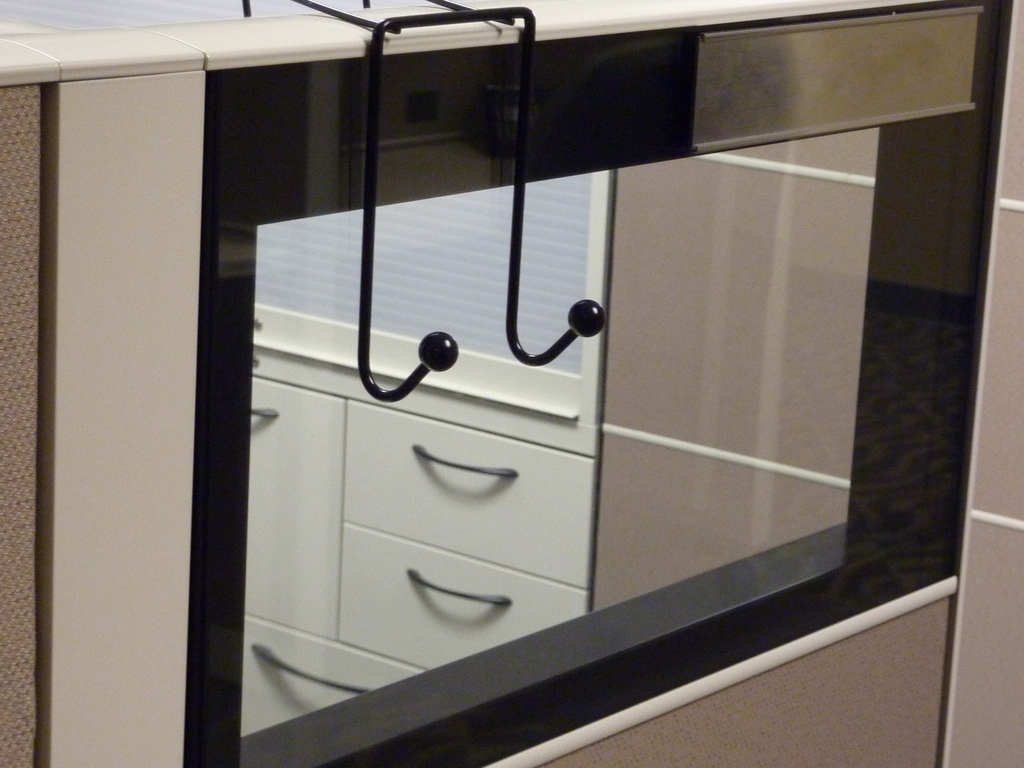cabinet door: (354, 406, 571, 566), (366, 544, 535, 647), (242, 615, 390, 711)
handle: (254, 638, 360, 700), (407, 564, 505, 621), (420, 446, 514, 492)
